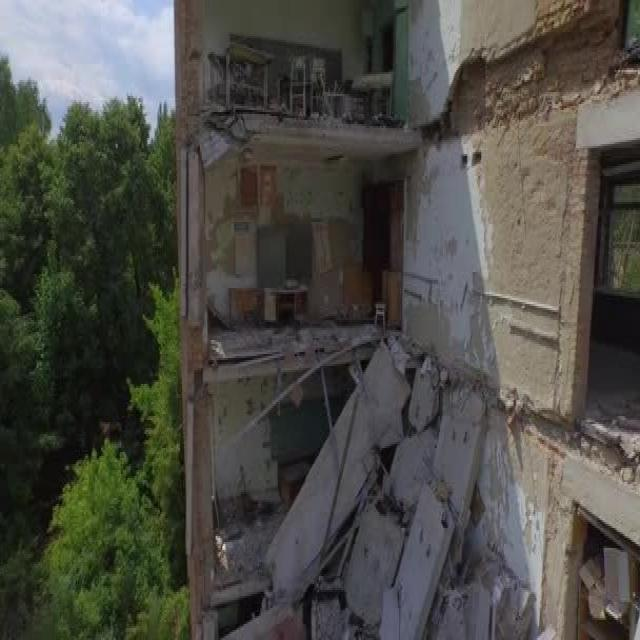collapsed_building: (172, 0, 639, 638)
